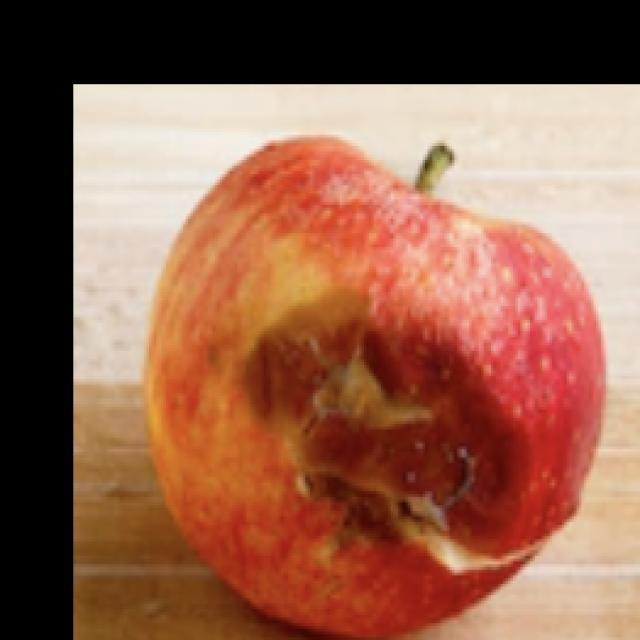Rotten: (168, 145, 617, 640)
